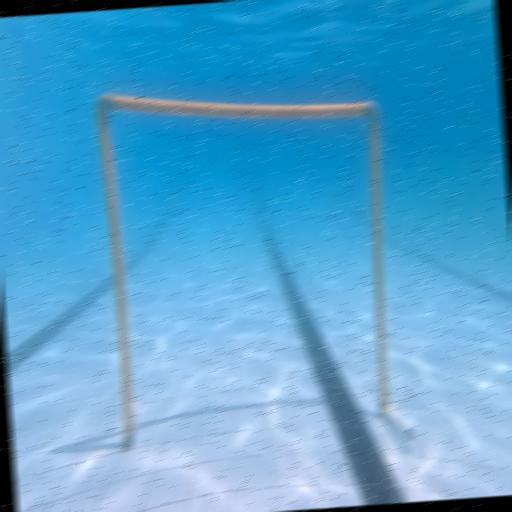gate: (94, 71, 416, 465)
